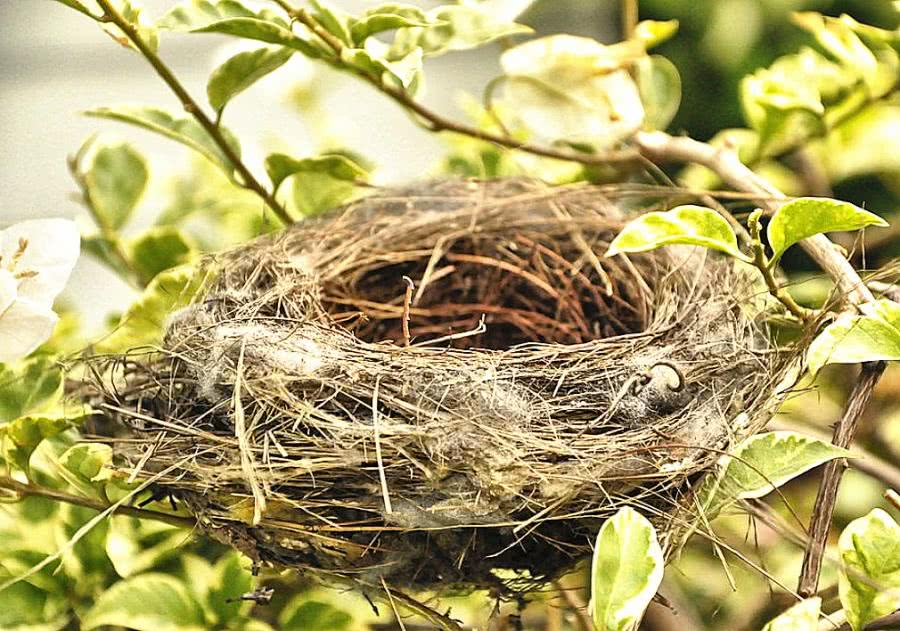bird-nest: (156, 181, 786, 517)
